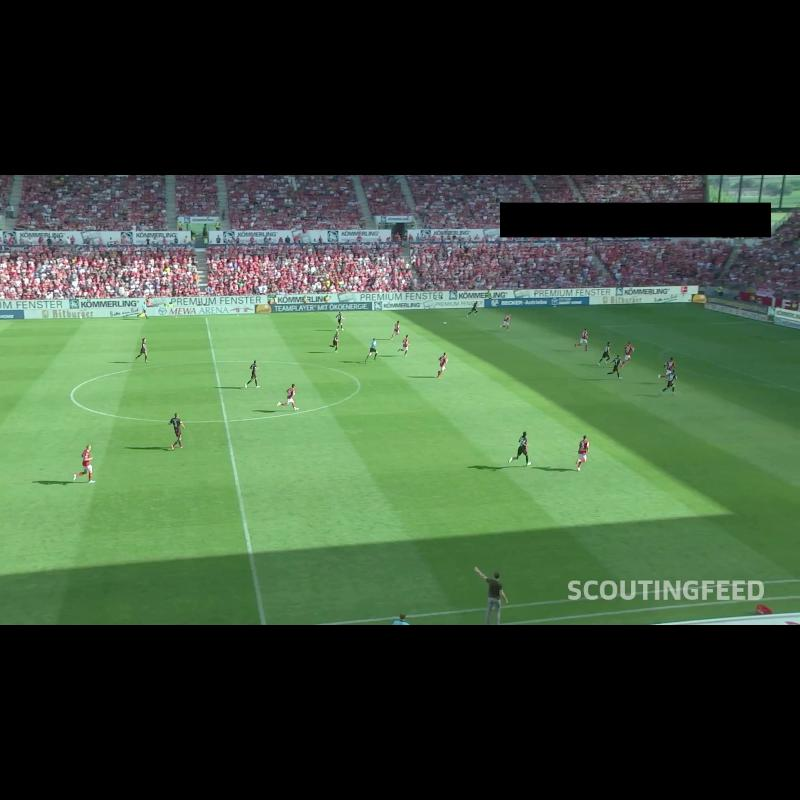cross_recipient_zone: (602, 322, 800, 393)
crossing_player_zone: (466, 304, 754, 330)
pitch: (0, 305, 800, 625)
